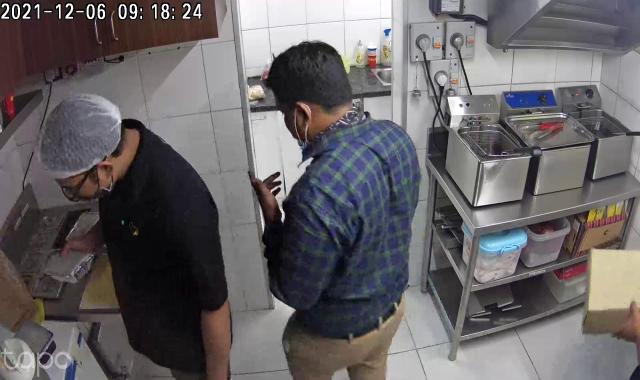hairnet: (36, 95, 129, 181)
no_hairnet: (259, 39, 356, 117)
